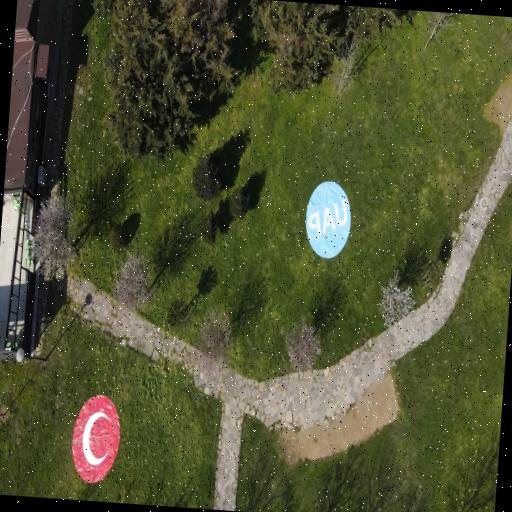UAP: (72, 395, 120, 483)
car: (306, 182, 351, 258)
